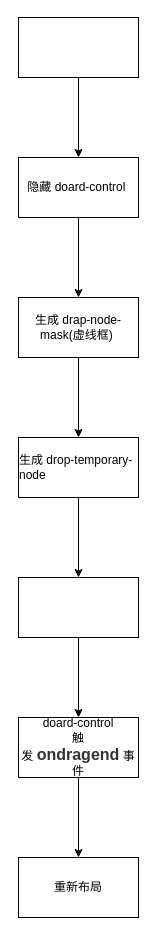
Some shapes in this 157 by 935 pixel diagram are drawn without their labels. The centre of each missing label's shape, as x and y in pixels:
doard-control 触发 ondragstart 事件: point (78, 47)
生成 drop-temporary-path: point (78, 607)
